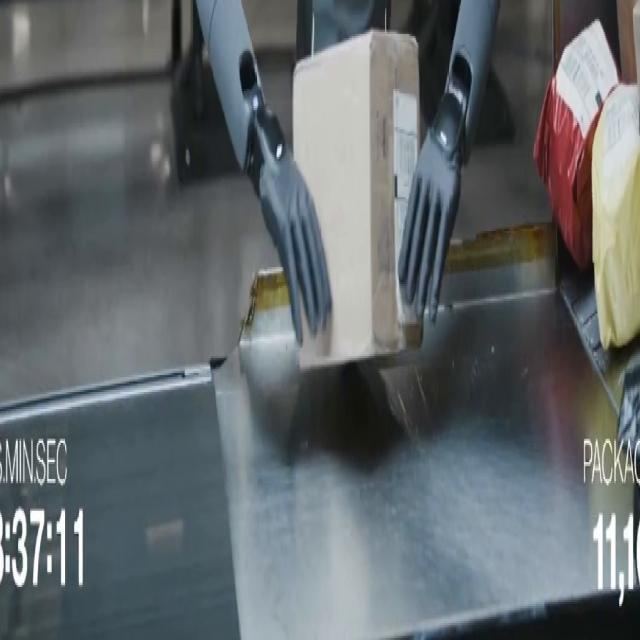package: (293, 30, 421, 368), (534, 22, 619, 269), (592, 85, 639, 349), (617, 0, 637, 82), (633, 0, 639, 69)
